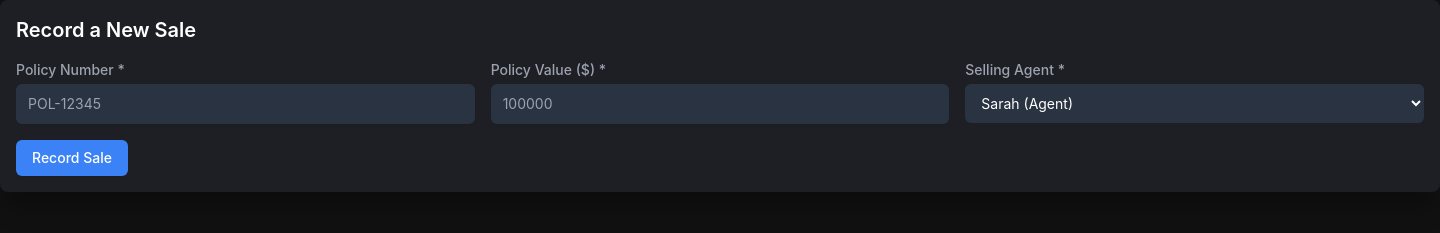
Test: SalesForm Component › shows validation error for zero policy value
The width and height of the screenshot is (1440, 233).
In the field labelled "Policy Number *": coordinates (245, 104) [16,84,475,124], type "POL-123"
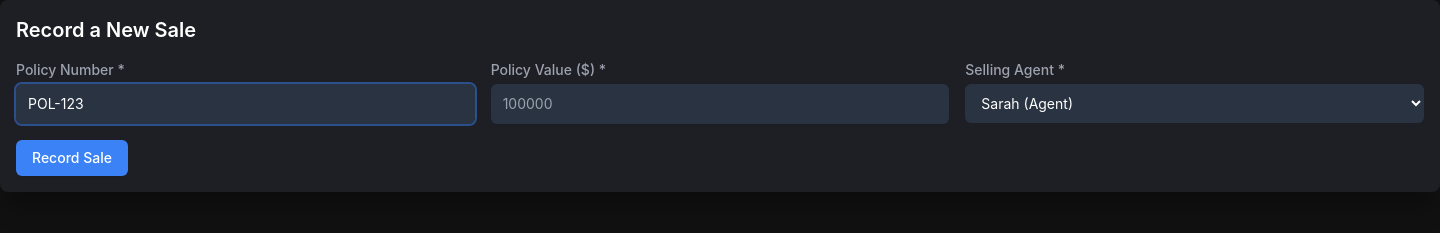
In the number field labelled "Policy Value ($) *": coordinates (720, 104) [491,84,949,124], type "0"
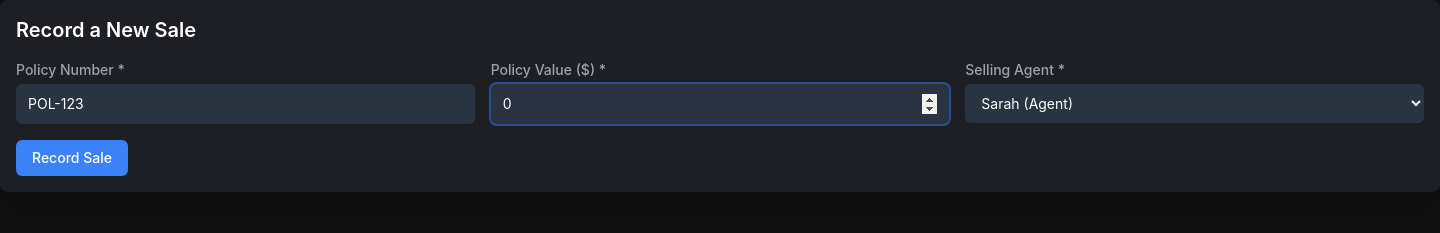
Click the button "Record Sale": coordinates (72, 158) [16,140,128,176]
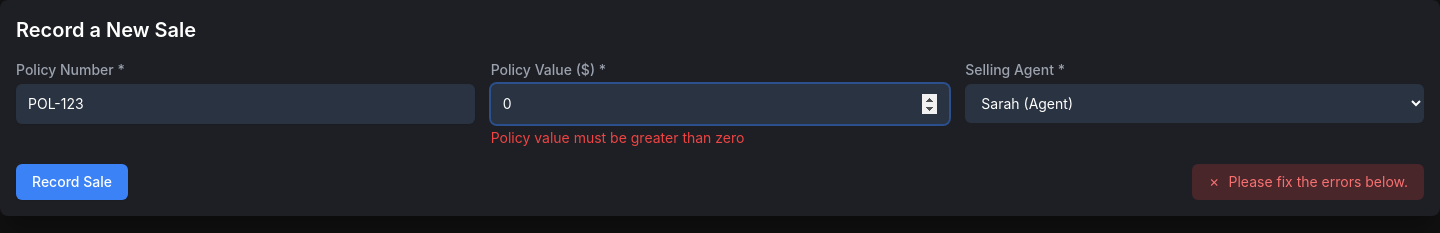
expect the text "Policy value must be greater than zero" is shown: met, box [491,129,744,146]
